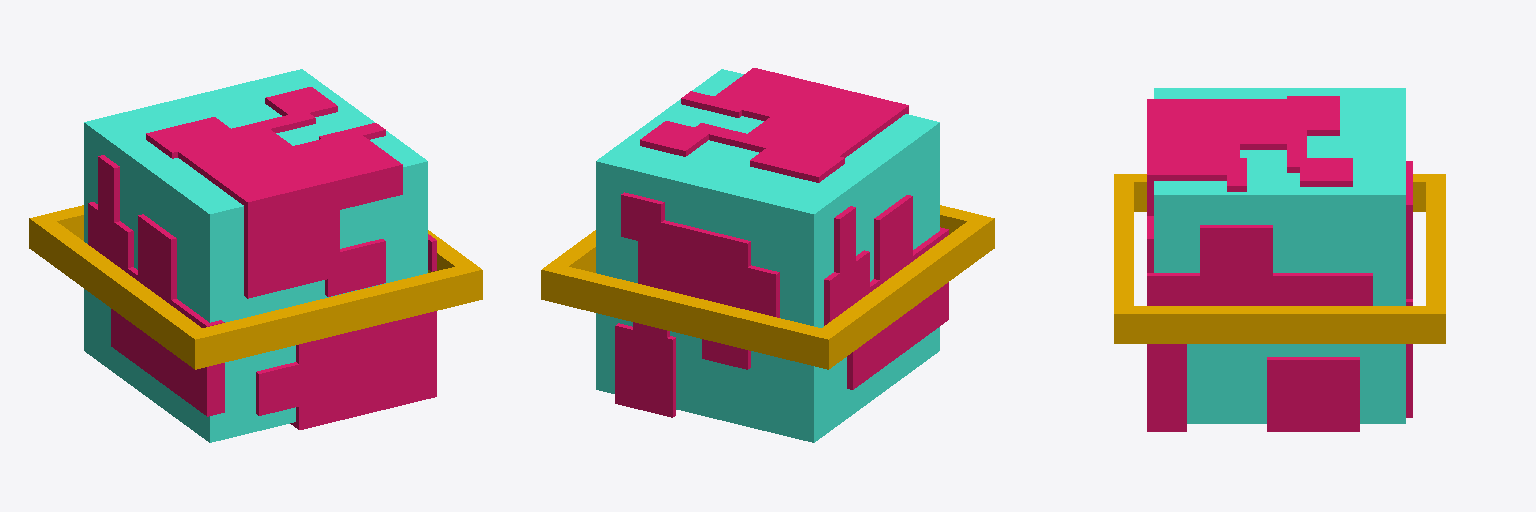
3 renders of one model, left to right at view 1: azimuth 30°, elevation 25°; view 2: azimuth 150°, elevation 25°; view 3: azimuth 270°, elevation 25°, orthographic.
Size of the model in its own units: 50 by 40 by 50.
Materials: 1 (1 with a texture image).